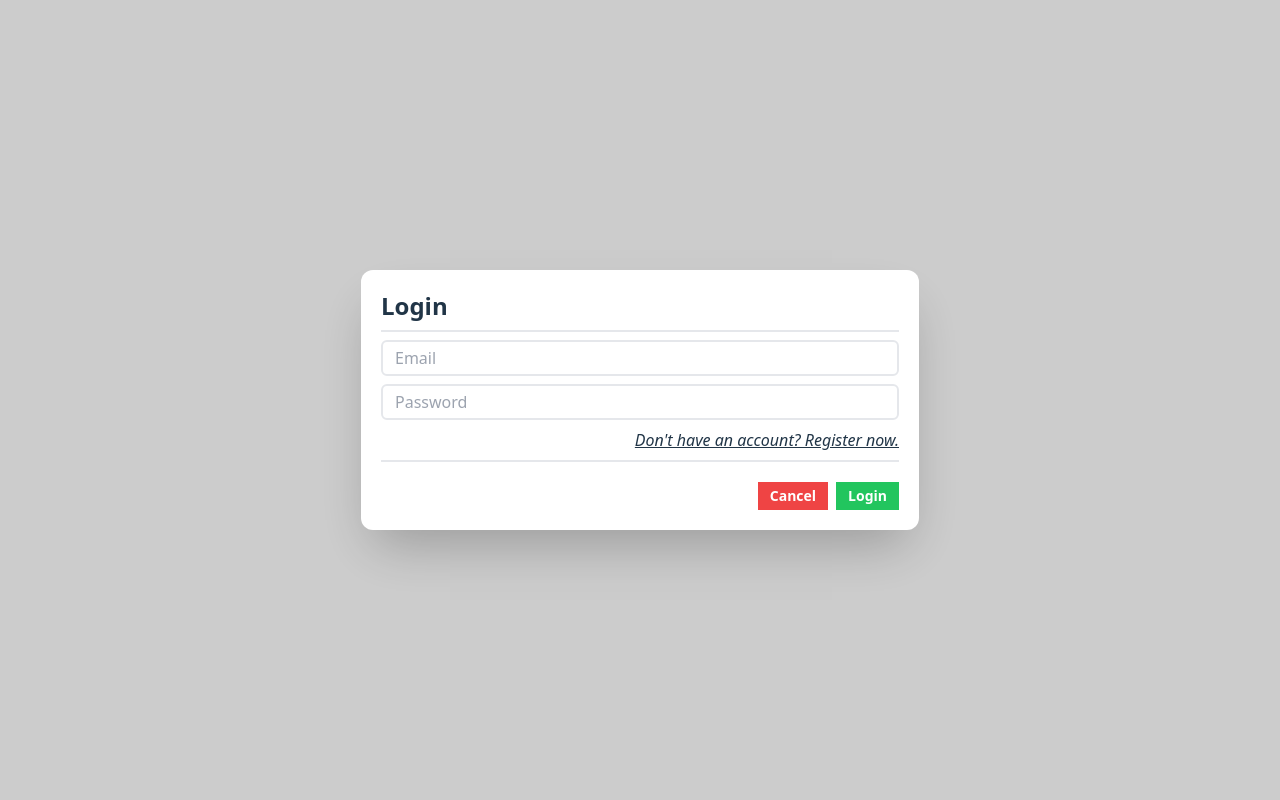
Test: PopupLogin › Should show true form when click switch form button
expect the field named "email" is shown: met, box [381,340,899,376]
expect the password field named "password" is shown: met, box [381,384,899,420]
Click the button with class "switch-form-btn" at point(767, 440), box [635,428,899,452]
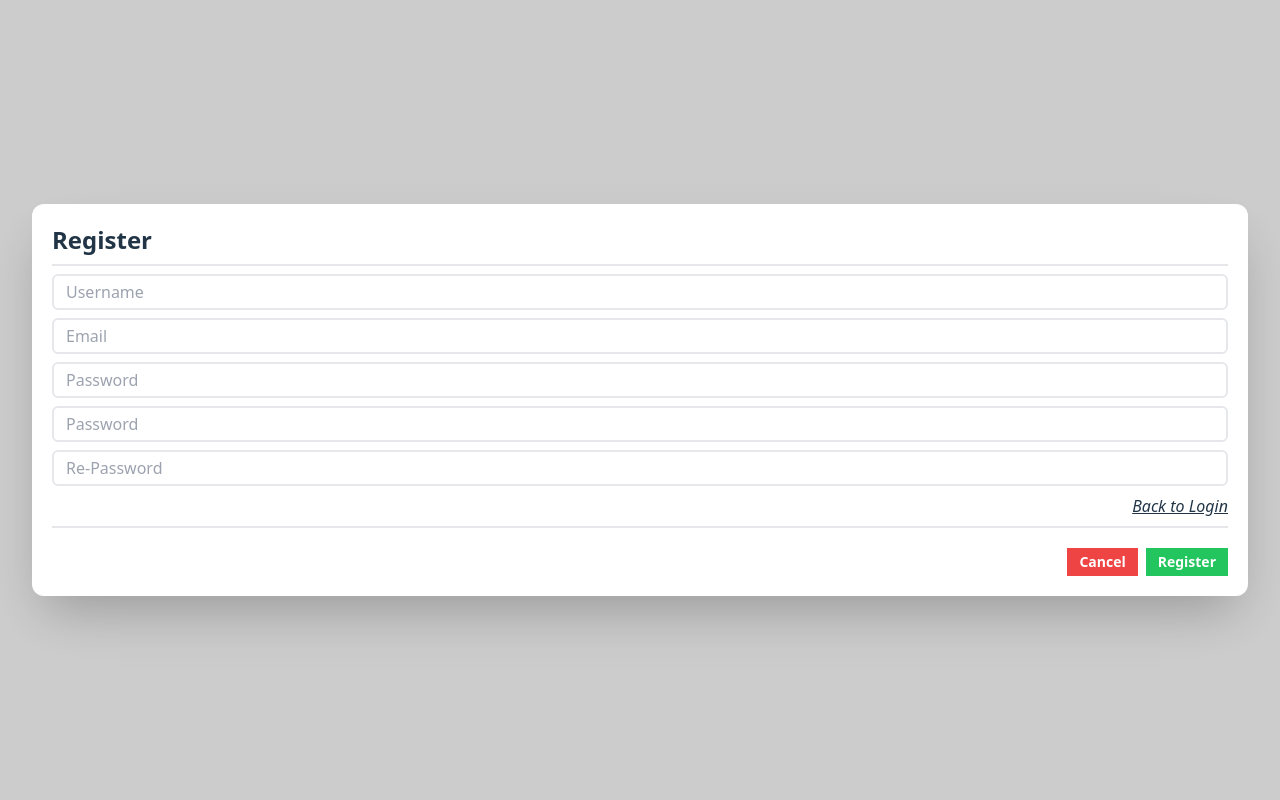
expect the field named "email" is shown: met, box [52,274,1228,310]
expect the button with class "switch-form-btn" reads "Back to Login": met
expect the password field named "rePassword" is shown: met, box [52,450,1228,486]
Click the button with class "switch-form-btn" at point(1180, 506), box [1132,494,1228,518]
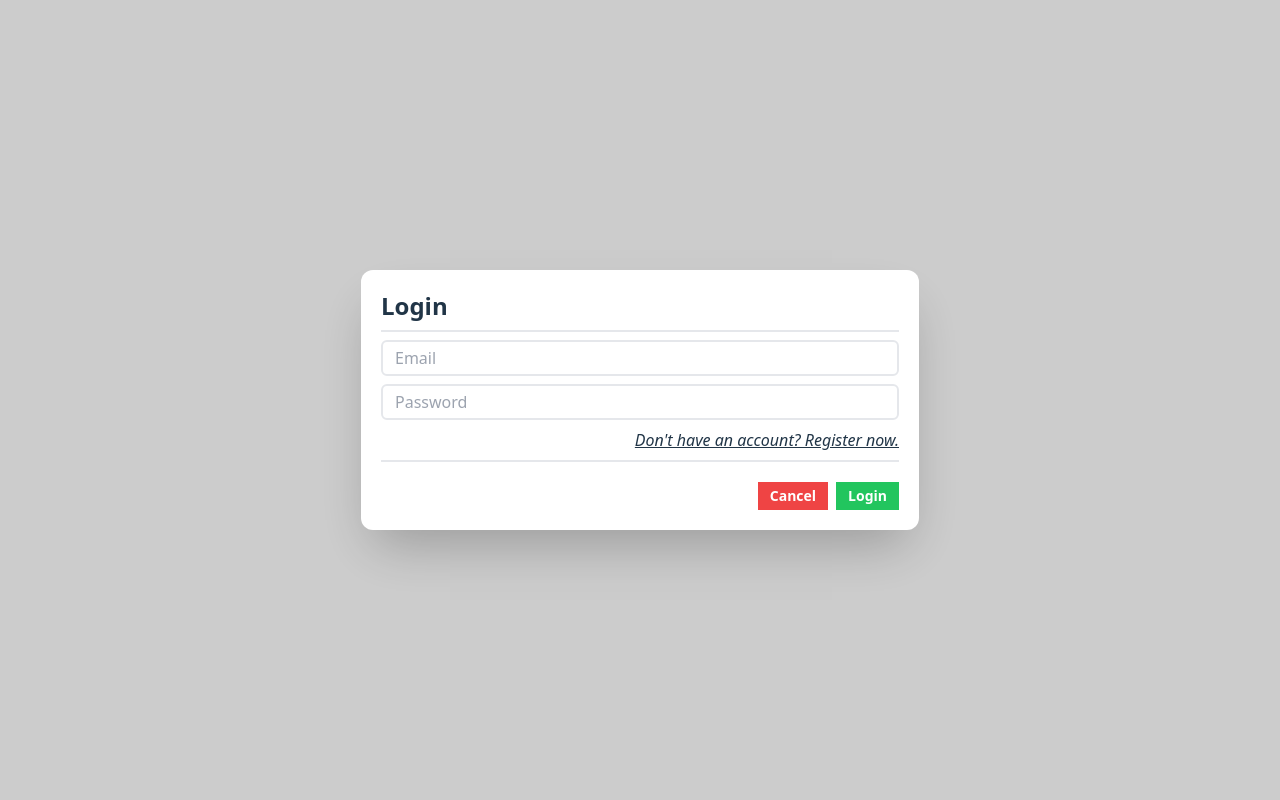
expect the password field named "rePassword" is gone: met
